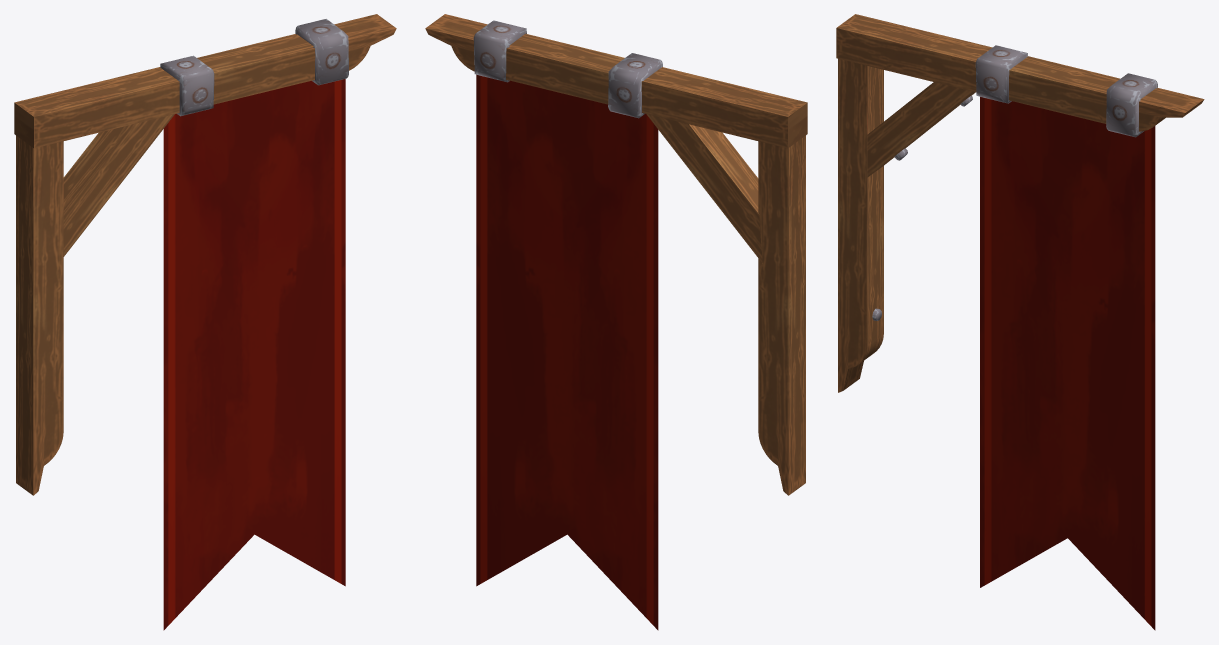
Rendered from banner-1.glb.
3 renders of one model, left to right at view 1: azimuth 30°, elevation 25°; view 2: azimuth 150°, elevation 25°; view 3: azimuth 330°, elevation 25°, orthographic. The views are drawn at different scales.
Parts seen in each view (by area): view 1: Banner_1; view 2: Banner_1; view 3: Banner_1.
Boxes of the visible parts, bbox=[...] form: Banner_1: bbox=[14, 14, 396, 630]; Banner_1: bbox=[425, 14, 807, 630]; Banner_1: bbox=[836, 14, 1204, 630].
Size of the model in its own units: 1.61 by 2.39 by 0.1906.
Materials: 3 (3 with a texture image).
